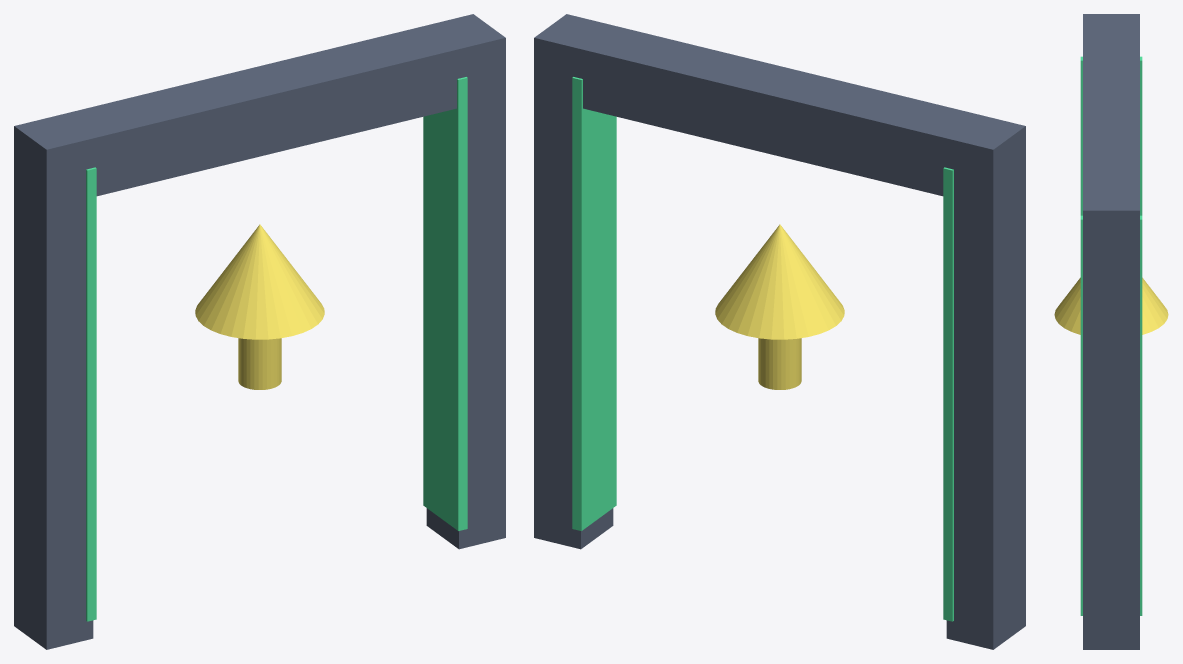
Rendered from neck_gate.glb.
3 views of the same model, side by side, from view 1: azimuth 30°, elevation 25°; view 2: azimuth 150°, elevation 25°; view 3: azimuth 270°, elevation 25° (orthographic). The views are drawn at different scales.
Visible parts, largest first — view 1: Cube.004, Cube, Cube.002, Cube.003, Cone, Cube.001, Cylinder; view 2: Cube.004, Cube, Cube.002, Cube.003, Cone, Cube.001, Cylinder; view 3: Cube.002, Cube.004, Cube.003, Cone, Cube.001.
Boxes of the visible parts, x1=… form: Cube.004: x1=14, y1=14, x2=505, y2=208; Cube: x1=14, y1=136, x2=93, y2=649; Cube.002: x1=426, y1=47, x2=505, y2=549; Cube.003: x1=423, y1=77, x2=467, y2=530; Cone: x1=195, y1=224, x2=324, y2=339; Cube.001: x1=86, y1=167, x2=96, y2=621; Cylinder: x1=238, y1=338, x2=281, y2=389; Cube.004: x1=534, y1=14, x2=1025, y2=208; Cube: x1=946, y1=136, x2=1025, y2=649; Cube.002: x1=534, y1=47, x2=613, y2=549; Cube.003: x1=572, y1=77, x2=616, y2=530; Cone: x1=715, y1=224, x2=844, y2=339; Cube.001: x1=943, y1=167, x2=953, y2=621; Cylinder: x1=758, y1=338, x2=801, y2=389; Cube.002: x1=1083, y1=219, x2=1139, y2=649; Cube.004: x1=1083, y1=14, x2=1139, y2=261; Cube.003: x1=1080, y1=215, x2=1142, y2=615; Cone: x1=1054, y1=277, x2=1168, y2=334; Cube.001: x1=1080, y1=56, x2=1142, y2=215.
Size of the model in its own units: 4.9 by 5.1 by 1.2.
